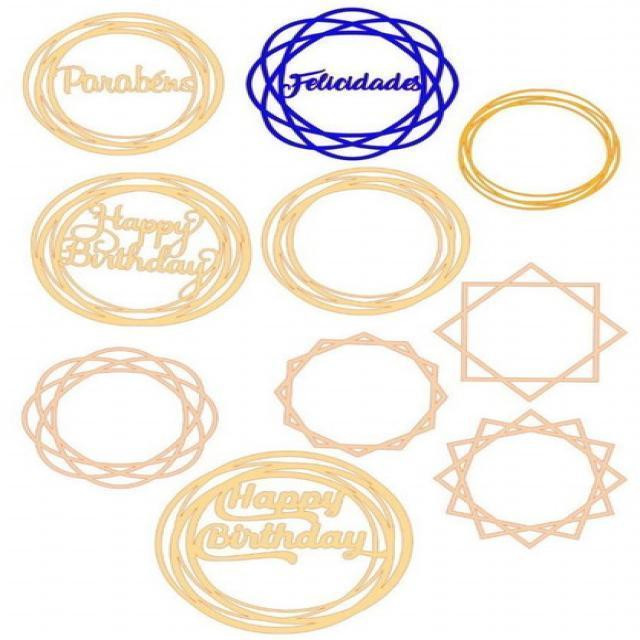Circle: (254, 161, 467, 316), (16, 347, 220, 490), (437, 407, 632, 552), (267, 330, 449, 457), (456, 88, 624, 210)
